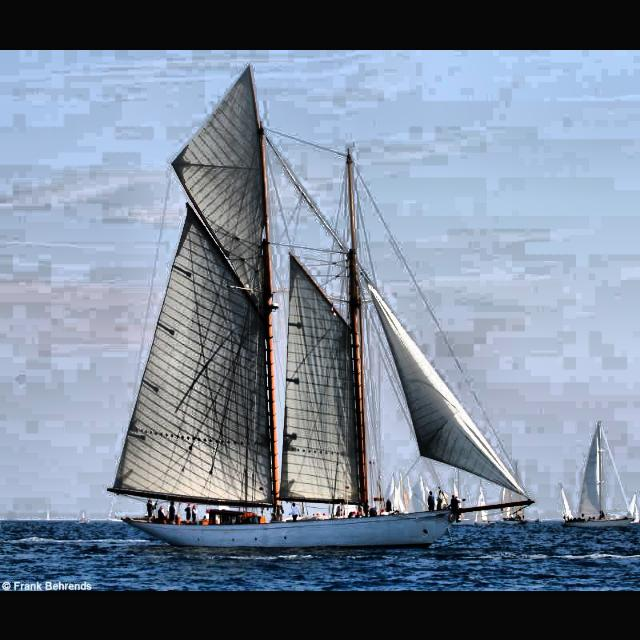sailing_vessel: (105, 62, 537, 552), (560, 421, 636, 529)
